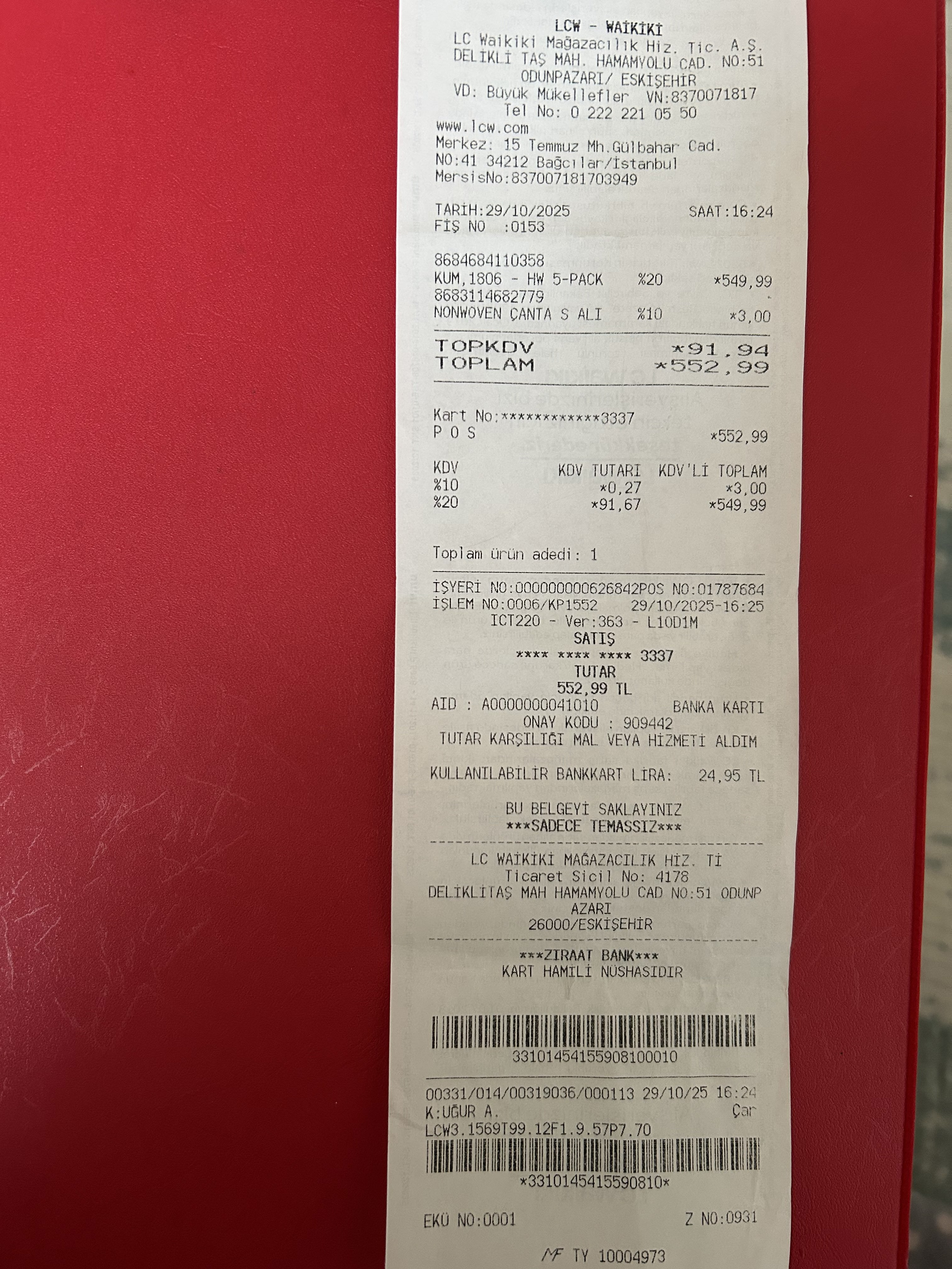date: (668, 355, 774, 381)
price: (484, 201, 574, 218)
workplace: (438, 13, 774, 90)
